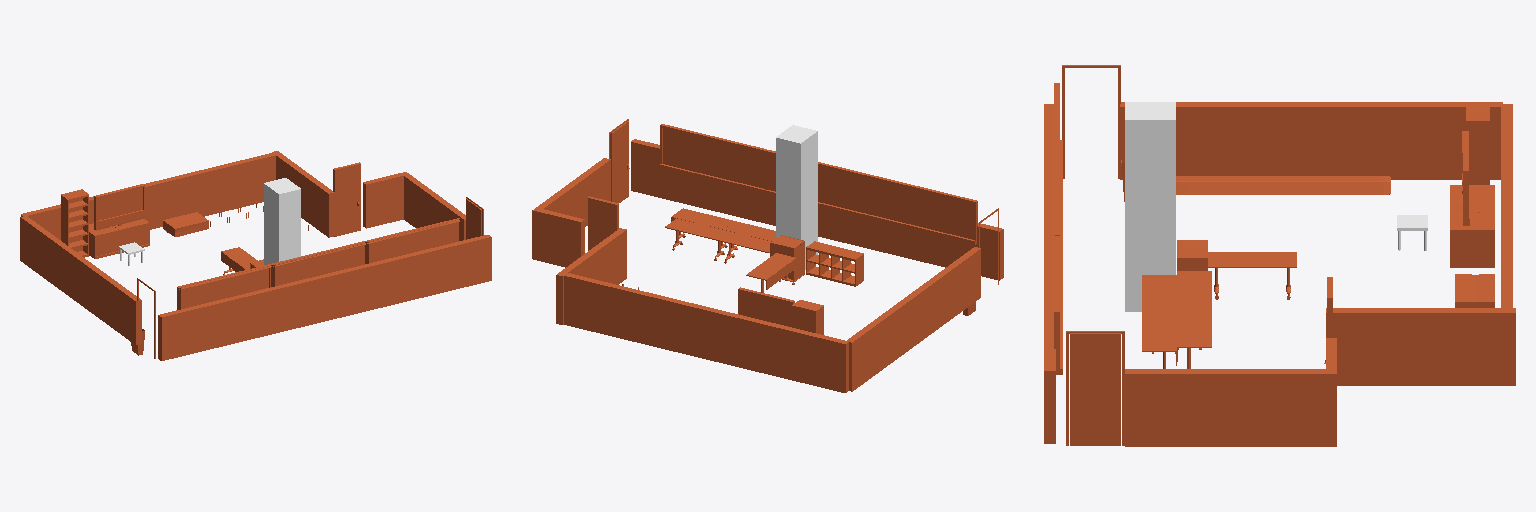
--- Facts derived from the render (not from the file) ---
Views: 3 orthographic renders of the robot side by side, from view 1: azimuth 30°, elevation 25°; view 2: azimuth 150°, elevation 25°; view 3: azimuth 270°, elevation 25°.
Model root with 89 links and 88 joints (88 fixed), rooted at root, posed all joints at 0.
Visible links, largest first — view 1: Wall_0_link, Wall_2_link, Wall_1_link, Column_0_link, Wall_3_link, Window_1_border_link, Wall_4_link, Wall_5_link, Window_2_panel_link, TV_0_link, Door_2_panel_link, Window_0_panel_link (+4 smaller); view 2: Wall_2_link, Wall_0_link, Wall_1_link, Column_0_link, Window_0_panel_link, Window_2_panel_link, Wall_4_link, Wall_3_link, Wall_5_link, Window_1_panel_link, Shelf_0_link, TV_0_link (+12 smaller); view 3: Wall_1_link, Wall_4_link, Wall_3_link, Column_0_link, Door_1_panel_link, FloorBar_1_link, Wall_0_link, Shelf_2_link, Wall_2_link, Shelf_1_main_link, Desk_0_top_link, Desk_3_top_link (+12 smaller).
Boxes of the visible links, bbox=[...] form: Wall_0_link: bbox=[158, 235, 491, 360]; Wall_2_link: bbox=[21, 153, 275, 239]; Wall_1_link: bbox=[20, 216, 141, 344]; Column_0_link: bbox=[264, 178, 300, 264]; Wall_3_link: bbox=[272, 151, 334, 237]; Window_1_border_link: bbox=[271, 241, 366, 286]; Wall_4_link: bbox=[401, 172, 465, 240]; Wall_5_link: bbox=[363, 173, 403, 228]; Window_2_panel_link: bbox=[367, 220, 457, 263]; TV_0_link: bbox=[94, 184, 144, 230]; Door_2_panel_link: bbox=[333, 162, 360, 236]; Window_0_panel_link: bbox=[181, 266, 269, 308]; Wall_2_link: bbox=[564, 273, 848, 392]; Wall_0_link: bbox=[631, 139, 1003, 280]; Wall_1_link: bbox=[847, 247, 980, 391]; Column_0_link: bbox=[776, 125, 817, 269]; Window_0_panel_link: bbox=[873, 179, 973, 239]; Window_2_panel_link: bbox=[663, 128, 762, 187]; Wall_4_link: bbox=[532, 158, 610, 260]; Wall_3_link: bbox=[556, 228, 626, 324]; Wall_5_link: bbox=[538, 209, 584, 267]; Window_1_panel_link: bbox=[768, 154, 868, 213]; Shelf_0_link: bbox=[806, 241, 863, 286]; TV_0_link: bbox=[738, 287, 794, 326]; Wall_1_link: bbox=[1120, 102, 1502, 179]; Wall_4_link: bbox=[1125, 369, 1336, 446]; Wall_3_link: bbox=[1326, 308, 1515, 385]; Column_0_link: bbox=[1125, 102, 1175, 311]; Door_1_panel_link: bbox=[1070, 333, 1120, 445]; FloorBar_1_link: bbox=[1176, 176, 1390, 194]; Wall_0_link: bbox=[1044, 104, 1055, 443]; Shelf_2_link: bbox=[1450, 185, 1494, 267]; Wall_2_link: bbox=[1501, 104, 1512, 307]; Shelf_1_main_link: bbox=[1466, 104, 1489, 184]; Desk_0_top_link: bbox=[1208, 252, 1296, 267]; Desk_3_top_link: bbox=[1142, 313, 1176, 351].
Size in the robot's own frame: 11.2 by 8.2 by 4.04 metres.
51 mesh visuals loaded from 50 distinct referenced files (45 Collada DAE); not drawn: 6 (reference not matched to a file when rendering).

The robot description file, URDF, robot "root":
<?xml version="1.0" ?>
<robot name="root" version="1.0">
  <material name="blue">
    <color rgba="0.4 0.4 0.6 1.0"/>
  </material>
  <material name="white">
    <color rgba="1.0 1.0 1.0 1.0"/>
  </material>
  <material name="cabinet_handles">
    <color rgba="0.6 0.6 0.6 1"/>
  </material>
  <material name="cabinet_surface">
    <color rgba="0.4 0.4 0.4 1"/>
  </material>
  <material name="oven_silver">
    <color rgba="0.64 0.66 0.7 1"/>
  </material>
  <material name="sink">
    <color rgba="0.8 0.8 0.8 1"/>
  </material>
  <material name="object_mains">
    <color rgba="0.7 0.7 0.7 1"/>
  </material>
  <material name="environment_color">
    <color rgba="0.85 0.43 0.25 1"/>
  </material>
  <material name="black">
    <color rgba="0.2 0.2 0.2 1"/>
  </material>



  <link name="root">
    <inertial>
      <origin xyz="0.0 0.0 0.0" rpy="0.0 0.0 0.0"/>
      <mass value="0.0"/>
      <inertia ixx="0.0" ixy="0.0" ixz="0.0" iyy="0.0" iyz="0.0" izz="0.0"/>
    </inertial>
  </link>
  <joint name="World_joint" type="fixed">
    <origin xyz="0.0 0.0 0.0" rpy="1.570796012878418 0.0 0.0"/>
    <parent link="root"/>
    <child link="World"/>
  </joint>
  <link name="World">
    <inertial>
      <origin xyz="0.0 0.0 0.0" rpy="0.0 0.0 0.0"/>
      <mass value="0.0"/>
      <inertia ixx="0.0" ixy="0.0" ixz="0.0" iyy="0.0" iyz="0.0" izz="0.0"/>
    </inertial>
  </link>
  <joint name="Environment_joint" type="fixed">
    <origin xyz="0.0 0.0 0.0" rpy="0.0 0.0 0.0"/>
    <parent link="root"/>
    <child link="Environment"/>
  </joint>
  <link name="Environment">
    <inertial>
      <origin xyz="0.0 0.0 0.0" rpy="0.0 0.0 0.0"/>
      <mass value="0.0"/>
      <inertia ixx="0.0" ixy="0.0" ixz="0.0" iyy="0.0" iyz="0.0" izz="0.0"/>
    </inertial>
  </link>

  <!-- DOORS -->
  <joint name="Door_0_joint" type="fixed">
    <origin xyz="-0.034354 -0.036232 1.04066" rpy="-8.526514862000276e-14 0.0 -2.2204464727667867e-15"/>
    <parent link="Environment"/>
    <child link="Door_0_link"/>
  </joint>
  <link name="Door_0_link">
    <inertial>
      <origin xyz="0.0 0.0 0.0" rpy="0.0 0.0 0.0"/>
      <mass value="0.0"/>
      <inertia ixx="0.0" ixy="0.0" ixz="0.0" iyy="0.0" iyz="0.0" izz="0.0"/>
    </inertial>
    <visual name="Door_0">
      <origin xyz="0.0 0.0 0.0" rpy="0.0 0.0 0.0"/>
      <geometry>
      	<mesh filename="package://robocane_manual/robocane_env/robocane_new/meshes/obj/Cube_026.dae" scale="1.0 1.0 1.0"/>
      </geometry>
      <material name="environment_color"/>
    </visual>
    <collision>
      <origin rpy="0 0 0" xyz="0 0 0"/>
      <geometry>
        <mesh filename="package://robocane_manual/robocane_env/robocane_new/meshes/obj/Cube_026.dae"/>
      </geometry>
    </collision>
  </link>
  
  <joint name="Door_1_main_joint" type="fixed">
    <origin xyz="10.95 0.03623 1.039" rpy="0.0 0.0 0.0"/>
    <parent link="Environment"/>
    <child link="Door_1_main_link"/>
  </joint>
  <link name="Door_1_main_link">
    <inertial>
      <origin xyz="0.0 0.0 0.0" rpy="0.0 0.0 0.0"/>
      <mass value="0.0"/>
      <inertia ixx="0.0" ixy="0.0" ixz="0.0" iyy="0.0" iyz="0.0" izz="0.0"/>
    </inertial>
  </link>
  <joint name="Door_1_panel_joint" type="fixed">
    <origin xyz="0.0 0.0 0.0" rpy="-8.526514862000276e-14 0.0 -2.2204464727667867e-15"/>
    <parent link="Door_1_main_link"/>
    <child link="Door_1_panel_link"/>
  </joint>
  <link name="Door_1_panel_link">
    <inertial>
      <origin xyz="0.0 0.0 0.0" rpy="0.0 0.0 0.0"/>
      <mass value="0.0"/>
      <inertia ixx="0.0" ixy="0.0" ixz="0.0" iyy="0.0" iyz="0.0" izz="0.0"/>
    </inertial>
    <visual name="Door_1_panel">
      <origin xyz="0.0 0.0 0.0" rpy="0.0 0.0 0.0"/>
      <geometry>
      	<mesh filename="package://robocane_manual/robocane_env/robocane_new/meshes/obj/Office_031.dae" scale="1.0 1.0 1.0"/>
      </geometry>
      <material name="environment_color"/>
    </visual>
    <collision>
      <origin rpy="0 0 0" xyz="0 0 0"/>
      <geometry>
        <mesh filename="package://robocane_manual/robocane_env/robocane_new/meshes/obj/Office_031.dae" scale="1.0 1.0 1.0"/>
      </geometry>
    </collision>
  </link>
  <joint name="Door_1_border_joint" type="fixed">
    <origin xyz="0.0 0.0 0.0" rpy="-8.526514862000276e-14 0.0 -2.2204464727667867e-15"/>
    <parent link="Door_1_main_link"/>
    <child link="Door_1_border_link"/>
  </joint>
  <link name="Door_1_border_link">
    <inertial>
      <origin xyz="0.0 0.0 0.0" rpy="0.0 0.0 0.0"/>
      <mass value="0.0"/>
      <inertia ixx="0.0" ixy="0.0" ixz="0.0" iyy="0.0" iyz="0.0" izz="0.0"/>
    </inertial>
    <visual name="Door_1_border">
      <origin xyz="0.0 0.0 0.0" rpy="0.0 0.0 0.0"/>
      <geometry>
      	<mesh filename="package://robocane_manual/robocane_env/robocane_new/meshes/obj/Cube_012.dae" scale="1.0 1.0 1.0"/>
      </geometry>
      <material name="environment_color"/>
    </visual>
    <collision>
      <origin rpy="0 0 0" xyz="0 0 0"/>
      <geometry>
        <mesh filename="package://robocane_manual/robocane_env/robocane_new/meshes/obj/Cube_012.dae" scale="1.0 1.0 1.0"/>
      </geometry>
    </collision>
  </link>  
  <joint name="Door_1_handle_frame_joint" type="fixed">
    <origin xyz="-0.065775 -0.35004 -0.20166" rpy="-8.526514862000276e-14 0.0 -2.2204464727667867e-15"/>
    <parent link="Door_1_main_link"/>
    <child link="Door_1_handle_frame_link"/>
  </joint>
  <link name="Door_1_handle_frame_link">
    <inertial>
      <origin xyz="0.0 0.0 0.0" rpy="0.0 0.0 0.0"/>
      <mass value="0.0"/>
      <inertia ixx="0.0" ixy="0.0" ixz="0.0" iyy="0.0" iyz="0.0" izz="0.0"/>
    </inertial>
    <visual name="Door_1_handle_frame">
      <origin xyz="0.0 0.0 0.0" rpy="0.0 0.0 0.0"/>
      <geometry>
      	<mesh filename="package://robocane_manual/robocane_env/robocane_new/meshes/obj/Office_003.dae" scale="1.0 1.0 1.0"/>
      </geometry>
      <material name="environment_color"/>
    </visual>
    <collision>
      <origin rpy="0 0 0" xyz="0 0 0"/>
      <geometry>
        <mesh filename="package://robocane_manual/robocane_env/robocane_new/meshes/obj/Office_003.dae" scale="1.0 1.0 1.0"/>
      </geometry>
    </collision>
  </link>
  <joint name="Door_1_handle_knob_joint" type="fixed">
    <origin xyz="-0.023419 0.0356732 -0.036879" rpy="-8.526514862000276e-14 0.0 -2.2204464727667867e-15"/>
    <parent link="Door_1_handle_frame_link"/>
    <child link="Door_1_handle_knob_link"/>
  </joint>
  <link name="Door_1_handle_knob_link">
    <inertial>
      <origin xyz="0.0 0.0 0.0" rpy="0.0 0.0 0.0"/>
      <mass value="0.0"/>
      <inertia ixx="0.0" ixy="0.0" ixz="0.0" iyy="0.0" iyz="0.0" izz="0.0"/>
    </inertial>
    <visual name="Door_1_handle_knob">
      <origin xyz="0.0 0.0 0.0" rpy="0.0 0.0 0.0"/>
      <geometry>
      	<mesh filename="package://robocane_manual/robocane_env/robocane_new/meshes/obj/Office_051.dae" scale="1.0 1.0 1.0"/>
      </geometry>
      <material name="environment_color"/>
    </visual>
    <collision>
      <origin rpy="0 0 0" xyz="0 0 0"/>
      <geometry>
        <mesh filename="package://robocane_manual/robocane_env/robocane_new/meshes/obj/Office_051.dae" scale="1.0 1.0 1.0"/>
      </geometry>
    </collision>
  </link>
  
  
  <joint name="Door_2_main_joint" type="fixed">
    <origin xyz="9.0617 4.1219 1.0343" rpy="0.0 0.0 0.0"/>
    <parent link="Environment"/>
    <child link="Door_2_main_link"/>
  </joint>
  <link name="Door_2_main_link">
    <inertial>
      <origin xyz="0.0 0.0 0.0" rpy="0.0 0.0 0.0"/>
      <mass value="0.0"/>
      <inertia ixx="0.0" ixy="0.0" ixz="0.0" iyy="0.0" iyz="0.0" izz="0.0"/>
    </inertial>
  </link>
  <joint name="Door_2_panel_joint" type="fixed">
    <origin xyz="0.0 0.0 0.0" rpy="-8.526514862000276e-14 0.0 -2.2204464727667867e-15"/>
    <parent link="Door_2_main_link"/>
    <child link="Door_2_panel_link"/>
  </joint>
  <link name="Door_2_panel_link">
    <inertial>
      <origin xyz="0.0 0.0 0.0" rpy="0.0 0.0 0.0"/>
      <mass value="0.0"/>
      <inertia ixx="0.0" ixy="0.0" ixz="0.0" iyy="0.0" iyz="0.0" izz="0.0"/>
    </inertial>
    <visual name="Door_2_panel">
      <origin xyz="0.0 0.0 0.0" rpy="0.0 0.0 0.0"/>
      <geometry>
      	<mesh filename="package://robocane_manual/robocane_env/robocane_new/meshes/obj/Office_019.dae" scale="1.0 1.0 1.0"/>
      </geometry>
      <material name="environment_color"/>
    </visual>
    <collision>
      <origin rpy="0 0 0" xyz="0 0 0"/>
      <geometry>
        <mesh filename="package://robocane_manual/robocane_env/robocane_new/meshes/obj/Office_019.dae" scale="1.0 1.0 1.0"/>
      </geometry>
    </collision>
  </link>
  <joint name="Door_2_handle_frame_joint" type="fixed">
    <origin xyz="0.33748 -0.065732 -0.19716" rpy="-8.526514862000276e-14 0.0 -2.2204464727667867e-15"/>
    <parent link="Door_2_main_link"/>
    <child link="Door_2_handle_frame_link"/>
  </joint>
  <link name="Door_2_handle_frame_link">
    <inertial>
      <origin xyz="0.0 0.0 0.0" rpy="0.0 0.0 0.0"/>
      <mass value="0.0"/>
      <inertia ixx="0.0" ixy="0.0" ixz="0.0" iyy="0.0" iyz="0.0" izz="0.0"/>
    </inertial>
    <visual name="Door_2_handle_frame">
      <origin xyz="0.0 0.0 0.0" rpy="0.0 0.0 0.0"/>
      <geometry>
      	<mesh filename="package://robocane_manual/robocane_env/robocane_new/meshes/obj/Office_044.dae" scale="1.0 1.0 1.0"/>
      </geometry>
      <material name="environment_color"/>
    </visual>
    <collision>
      <origin rpy="0 0 0" xyz="0 0 0"/>
      <geometry>
        <mesh filename="package://robocane_manual/robocane_env/robocane_new/meshes/obj/Office_044.dae" scale="1.0 1.0 1.0"/>
      </geometry>
    </collision>
  </link>
  <joint name="Door_2_handle_knob_joint" type="fixed">
    <origin xyz="-0.036732 -0.023646 -0.036882" rpy="-8.526514862000276e-14 0.0 -2.2204464727667867e-15"/>
    <parent link="Door_2_handle_frame_link"/>
    <child link="Door_2_handle_knob_link"/>
  </joint>
  <link name="Door_2_handle_knob_link">
    <inertial>
      <origin xyz="0.0 0.0 0.0" rpy="0.0 0.0 0.0"/>
      <mass value="0.0"/>
      <inertia ixx="0.0" ixy="0.0" ixz="0.0" iyy="0.0" iyz="0.0" izz="0.0"/>
    </inertial>
    <visual name="Door_2_handle_knob">
      <origin xyz="0.0 0.0 0.0" rpy="0.0 0.0 0.0"/>
      <geometry>
      	<mesh filename="package://robocane_manual/robocane_env/robocane_new/meshes/obj/Office_048.dae" scale="1.0 1.0 1.0"/>
      </geometry>
      <material name="environment_color"/>
    </visual>
    <collision>
      <origin rpy="0 0 0" xyz="0 0 0"/>
      <geometry>
        <mesh filename="package://robocane_manual/robocane_env/robocane_new/meshes/obj/Office_048.dae" scale="1.0 1.0 1.0"/>
      </geometry>
    </collision>
  </link>




  <!-- Building -->
    <joint name="Column_0_joint" type="fixed">
    <origin xyz="5.09736 0.99928 1.8085" rpy="-8.526514862000276e-14 0.0 -2.2204464727667867e-15"/>
    <parent link="Environment"/>
    <child link="Column_0_link"/>
  </joint>
  <link name="Column_0_link">
    <inertial>
      <origin xyz="0.0 0.0 0.0" rpy="0.0 0.0 0.0"/>
      <mass value="0.0"/>
      <inertia ixx="0.0" ixy="0.0" ixz="0.0" iyy="0.0" iyz="0.0" izz="0.0"/>
    </inertial>
    <visual name="Column_0">
      <origin xyz="0.0 0.0 0.0" rpy="0.0 0.0 0.0"/>
      <geometry>
      	<mesh filename="package://robocane_manual/robocane_env/robocane_new/meshes/obj/Cube_014.dae" scale="1.0 1.0 1.0"/>
      </geometry>
      <material name="white"/>
    </visual>
    <collision>
      <origin rpy="0 0 0" xyz="0 0 0"/>
      <geometry>
        <mesh filename="package://robocane_manual/robocane_env/robocane_new/meshes/obj/Cube_014.dae" scale="1.0 1.0 1.0"/>
      </geometry>
    </collision>
  </link>
  
  <!-- Furniture -->
    <joint name="Trash_1_joint" type="fixed">
    <origin xyz="0.107491 0.72737 0" rpy="-8.526514862000276e-14 0.0 -2.2204464727667867e-15"/>
    <parent link="Environment"/>
    <child link="Trash_1_link"/>
  </joint>
  <link name="Trash_1_link">
    <inertial>
      <origin xyz="0.0 0.0 0.0" rpy="0.0 0.0 0.0"/>
      <mass value="0.0"/>
      <inertia ixx="0.0" ixy="0.0" ixz="0.0" iyy="0.0" iyz="0.0" izz="0.0"/>
    </inertial>
    <visual name="Trash_1">
      <origin xyz="0.0 0.0 0.0" rpy="0.0 0.0 0.0"/>
      <geometry>
      	<mesh filename="package://robocane_manual/robocane_env/robocane_new/meshes/obj/Cube_027.dae" scale="1.0 1.0 1.0"/>
      </geometry>
      <material name="environment_color"/>
    </visual>
    <collision>
      <origin rpy="0 0 0" xyz="0 0 0"/>
      <geometry>
        <mesh filename="package://robocane_manual/robocane_env/robocane_new/meshes/obj/Cube_027.dae" scale="1.0 1.0 1.0"/>
      </geometry>
    </collision>
  </link>
  
  
  <joint name="TV_0_joint" type="fixed">
    <origin xyz="2.8288 6.4871 1.2664" rpy="-8.526514862000276e-14 0.0 -2.2204464727667867e-15"/>
    <parent link="Environment"/>
    <child link="TV_0_link"/>
  </joint>
  <link name="TV_0_link">
    <inertial>
      <origin xyz="0.0 0.0 0.0" rpy="0.0 0.0 0.0"/>
      <mass value="0.0"/>
      <inertia ixx="0.0" ixy="0.0" ixz="0.0" iyy="0.0" iyz="0.0" izz="0.0"/>
    </inertial>
    <visual name="TV_0">
      <origin xyz="0.0 0.0 0.0" rpy="0.0 0.0 0.0"/>
      <geometry>
      	<mesh filename="package://robocane_manual/robocane_env/robocane_new/meshes/obj/Office_004.dae" scale="1.0 1.0 1.0"/>
      </geometry>
      <material name="environment_color"/>
    </visual>
    <collision>
      <origin rpy="0 0 0" xyz="0 0 0"/>
      <geometry>
        <mesh filename="package://robocane_manual/robocane_env/robocane_new/meshes/obj/Office_004.dae" scale="1.0 1.0 1.0"/>
      </geometry>
    </collision>
  </link>
  
  
    <joint name="FloorBar_1_joint" type="fixed">
    <origin xyz="0.491986 3.28716 0.06721" rpy="-8.526514862000276e-14 0.0 -2.2204464727667867e-15"/>
    <parent link="Environment"/>
    <child link="FloorBar_1_link"/>
  </joint>
  <link name="FloorBar_1_link">
    <inertial>
      <origin xyz="0.0 0.0 0.0" rpy="0.0 0.0 0.0"/>
      <mass value="0.0"/>
      <inertia ixx="0.0" ixy="0.0" ixz="0.0" iyy="0.0" iyz="0.0" izz="0.0"/>
    </inertial>
    <visual name="FloorBar_1">
      <origin xyz="0.0 0.0 0.0" rpy="0.0 0.0 0.0"/>
      <geometry>
      	<mesh filename="package://robocane_manual/robocane_env/robocane_new/meshes/obj/Cube_119.dae" scale="1.0 1.0 1.0"/>
      </geometry>
      <material name="environment_color"/>
    </visual>
    <collision>
      <origin rpy="0 0 0" xyz="0 0 0"/>
      <geometry>
        <mesh filename="package://robocane_manual/robocane_env/robocane_new/meshes/obj/Cube_119.dae" scale="1.0 1.0 1.0"/>
      </geometry>
    </collision>
  </link>
  
  <joint name="Shelf_0_joint" type="fixed">
    <origin xyz="3.8332 1.1975 0.33" rpy="3.14 0.0 3.14"/>
    <parent link="Environment"/>
    <child link="Shelf_0_link"/>
  </joint>
  <link name="Shelf_0_link">
    <inertial>
      <origin xyz="0.0 0.0 0.0" rpy="0.0 0.0 0.0"/>
      <mass value="0.0"/>
      <inertia ixx="0.0" ixy="0.0" ixz="0.0" iyy="0.0" iyz="0.0" izz="0.0"/>
    </inertial>
    <visual name="Shelf_0">
      <origin xyz="0.0 0.0 0.0" rpy="0.0 0.0 0.0"/>
      <geometry>
      	<mesh filename="package://robocane_manual/robocane_env/robocane_new/meshes/obj/Cube_001.dae" scale="1.0 1.0 1.0"/>
      </geometry>
      <material name="environment_color"/>
    </visual>
    <collision>
      <origin rpy="0 0 0" xyz="0 0 0"/>
      <geometry>
        <mesh filename="package://robocane_manual/robocane_env/robocane_new/meshes/obj/Cube_001.dae" scale="1.0 1.0 1.0"/>
      </geometry>
    </collision>
  </link>
  
  <joint name="Shelf_1_main_joint" type="fixed">
    <origin xyz="1.4694 6.6989 0.93986" rpy="-8.526514862000276e-14 0.0 -2.2204464727667867e-15"/>
    <parent link="Environment"/>
    <child link="Shelf_1_main_link"/>
  </joint>
  <link name="Shelf_1_main_link">
    <inertial>
      <origin xyz="0.0 0.0 0.0" rpy="0.0 0.0 0.0"/>
      <mass value="0.0"/>
      <inertia ixx="0.0" ixy="0.0" ixz="0.0" iyy="0.0" iyz="0.0" izz="0.0"/>
    </inertial>
    <visual name="Shelf_1">
      <origin xyz="0.0 0.0 0.0" rpy="0.0 0.0 0.0"/>
      <geometry>
      	<mesh filename="package://robocane_manual/robocane_env/robocane_new/meshes/obj/Office_005.dae" scale="1.0 1.0 1.0"/>
      </geometry>
      <material name="environment_color"/>
    </visual>
    <collision>
      <origin rpy="0 0 0" xyz="0 0 0"/>
      <geometry>
        <mesh filename="package://robocane_manual/robocane_env/robocane_new/meshes/obj/Office_005.dae" scale="1.0 1.0 1.0"/>
      </geometry>
    </collision>
  </link>
  <joint name="Shelf_1_floor_1_joint" type="fixed">
    <origin xyz="0.0 0.0 -0.89" rpy="0.0 0.0 0.0"/>
    <parent link="Shelf_1_main_link"/>
    <child link="Shelf_1_floor_1_link"/>
  </joint>
  <link name="Shelf_1_floor_1_link">
    <inertial>
      <origin xyz="0.0 0.0 0.0" rpy="0.0 0.0 0.0"/>
      <mass value="0.0"/>
      <inertia ixx="0.0" ixy="0.0" ixz="0.0" iyy="0.0" iyz="0.0" izz="0.0"/>
    </inertial>
  </link>
  <joint name="Shelf_1_floor_2_joint" type="fixed">
    <origin xyz="0.0 0.0 -0.565" rpy="0.0 0.0 0.0"/>
    <parent link="Shelf_1_main_link"/>
    <child link="Shelf_1_floor_2_link"/>
  </joint>
  <link name="Shelf_1_floor_2_link">
    <inertial>
      <origin xyz="0.0 0.0 0.0" rpy="0.0 0.0 0.0"/>
      <mass value="0.0"/>
      <inertia ixx="0.0" ixy="0.0" ixz="0.0" iyy="0.0" iyz="0.0" izz="0.0"/>
    </inertial>
  </link>
  <joint name="Shelf_1_floor_3_joint" type="fixed">
    <origin xyz="0.0 0.0 -0.24" rpy="0.0 0.0 0.0"/>
    <parent link="Shelf_1_main_link"/>
    <child link="Shelf_1_floor_3_link"/>
  </joint>
  <link name="Shelf_1_floor_3_link">
    <inertial>
      <origin xyz="0.0 0.0 0.0" rpy="0.0 0.0 0.0"/>
      <mass value="0.0"/>
      <inertia ixx="0.0" ixy="0.0" ixz="0.0" iyy="0.0" iyz="0.0" izz="0.0"/>
    </inertial>
  </link>
  <joint name="Shelf_1_floor_4_joint" type="fixed">
    <origin xyz="0.0 0.0 0.085" rpy="0.0 0.0 0.0"/>
    <parent link="Shelf_1_main_link"/>
    <child link="Shelf_1_floor_4_link"/>
  </joint>
  <link name="Shelf_1_floor_4_link">
    <inertial>
      <origin xyz="0.0 0.0 0.0" rpy="0.0 0.0 0.0"/>
      <mass value="0.0"/>
      <inertia ixx="0.0" ixy="0.0" ixz="0.0" iyy="0.0" iyz="0.0" izz="0.0"/>
    </inertial>
  </link>
  <joint name="Shelf_1_floor_5_joint" type="fixed">
    <origin xyz="0.0 0.0 0.41" rpy="0.0 0.0 0.0"/>
    <parent link="Shelf_1_main_link"/>
    <child link="Shelf_1_floor_5_link"/>
  </joint>
  <link name="Shelf_1_floor_5_link">
    <inertial>
      <origin xyz="0.0 0.0 0.0" rpy="0.0 0.0 0.0"/>
      <mass value="0.0"/>
      <inertia ixx="0.0" ixy="0.0" ixz="0.0" iyy="0.0" iyz="0.0" izz="0.0"/>
    </inertial>
  </link>
  <joint name="Shelf_1_floor_6_joint" type="fixed">
    <origin xyz="0.0 0.0 0.70" rpy="0.0 0.0 0.0"/>
    <parent link="Shelf_1_main_link"/>
    <child link="Shelf_1_floor_6_link"/>
  </joint>
  <link name="Shelf_1_floor_6_link">
    <inertial>
      <origin xyz="0.0 0.0 0.0" rpy="0.0 0.0 0.0"/>
      <mass value="0.0"/>
      <inertia ixx="0.0" ixy="0.0" ixz="0.0" iyy="0.0" iyz="0.0" izz="0.0"/>
    </inertial>
  </link>

  <joint name="Shelf_2_joint" type="fixed">
    <origin xyz="2.7661 6.60044 0.33563" rpy="-8.526514862000276e-14 0.0 -2.2204464727667867e-15"/>
    <parent link="Environment"/>
    <child link="Shelf_2_link"/>
  </joint>
  <link name="Shelf_2_link">
    <inertial>
      <origin xyz="0.0 0.0 0.0" rpy="0.0 0.0 0.0"/>
      <mass value="0.0"/>
      <inertia ixx="0.0" ixy="0.0" ixz="0.0" iyy="0.0" iyz="0.0" izz="0.0"/>
    </inertial>
    <visual name="Shelf_2">
      <origin xyz="0.0 0.0 0.0" rpy="0.0 0.0 0.0"/>
      <geometry>
      	<mesh filename="package://robocane_manual/robocane_env/robocane_new/meshes/obj/Office_022.dae" scale="1.0 1.0 1.0"/>
      </geometry>
      <material name="environment_color"/>
    </visual>
    <collision>
      <origin rpy="0 0 0" xyz="0 0 0"/>
      <geometry>
        <mesh filename="package://robocane_manual/robocane_env/robocane_new/meshes/obj/Office_022.dae" scale="1.0 1.0 1.0"/>
      </geometry>
    </collision>
  </link>


  <joint name="Shelf_3_joint" type="fixed">
    <origin xyz="5.1426 6.6482 0.11411" rpy="-1.57 0.0 1.57"/>
    <parent link="Environment"/>
    <child link="Shelf_3_link"/>
  </joint>
  <link name="Shelf_3_link">
    <inertial>
      <origin xyz="0.0 0.0 0.0" rpy="0.0 0.0 0.0"/>
      <mass value="0.0"/>
      <inertia ixx="0.0" ixy="0.0" ixz="0.0" iyy="0.0" iyz="0.0" izz="0.0"/>
    </inertial>
    <visual name="Shelf_3">
      <origin xyz="0.0 0.0 0.0" rpy="0.0 0.0 0.0"/>
      <geometry>
      	<mesh filename="package://robocane_manual/robocane_env/robocane_new/meshes/obj/defaultMaterial.dae" scale="1.0 1.0 1.0"/>
      </geometry>
      <material name="environment_color"/>
    </visual>
    <collision>
      <origin rpy="0 0 0" xyz="0 0 0"/>
      <geometry>
        <mesh filename="package://robocane_manual/robocane_env/robocane_new/meshes/obj/defaultMaterial.dae" scale="1.0 1.0 1.0"/>
      </geometry>
    </collision>
  </link>


  <joint name="Cupboard_0_main_joint" type="fixed">
    <origin xyz="4.9489 1.729 0.44" rpy="-8.526514862000276e-14 0.0 -2.2204464727667867e-15"/>
    <parent link="Environment"/>
    <child link="Cupboard_0_main_link"/>
  </joint>
  <link name="Cupboard_0_main_link">
    <inertial>
      <origin xyz="0.0 0.0 0.0" rpy="0.0 0.0 0.0"/>
      <mass value="0.0"/>
      <inertia ixx="0.0" ixy="0.0" ixz="0.0" iyy="0.0" iyz="0.0" izz="0.0"/>
    </inertial>
  </link>
  <joint name="Cupboard_0_faces_joint" type="fixed">
    <origin xyz="0 0 0" rpy="-8.526514862000276e-14 0.0 -2.2204464727667867e-15"/>
    <parent link="Cupboard_0_main_link"/>
    <child link="Cupboard_0_faces_link"/>
  </joint>
  <link name="Cupboard_0_faces_link">
    <inertial>
      <origin xyz="0.0 0.0 0.0" rpy="0.0 0.0 0.0"/>
      <mass value="0.0"/>
      <inertia ixx="0.0" ixy="0.0" ixz="0.0" iyy="0.0" iyz="0.0" izz="0.0"/>
    </inertial>
    <visual name="Cupboard_0_faces">
      <origin xyz="0.0 0.0 0.0" rpy="0.0 0.0 0.0"/>
      <geometry>
      	<mesh filename="package://robocane_manual/robocane_env/robocane_new/meshes/obj/Cube_130.dae" scale="1.0 1.0 1.0"/>
      </geometry>
      <material name="environment_color"/>
    </visual>
    <collision>
      <origin rpy="0 0 0" xyz="0 0 0"/>
      <geometry>
        <mesh filename="package://robocane_manual/robocane_env/robocane_new/meshes/obj/Cube_130.dae" scale="1.0 1.0 1.0"/>
      </geometry>
    </collision>
  </link>
  <joint name="Cupboard_0_edges_joint" type="fixed">
    <origin xyz="0 0 0" rpy="-8.526514862000276e-14 0.0 -2.2204464727667867e-15"/>
    <parent link="Cupboard_0_main_link"/>
    <child link="Cupboard_0_edges_link"/>
  </joint>
  <link name="Cupboard_0_edges_link">
    <inertial>
      <origin xyz="0.0 0.0 0.0" rpy="0.0 0.0 0.0"/>
      <mass value="0.0"/>
      <inertia ixx="0.0" ixy="0.0" ixz="0.0" iyy="0.0" iyz="0.0" izz="0.0"/>
    </inertial>
    <visual name="Cupboard_0_edges">
      <origin xyz="0.0 0.0 0.0" rpy="0.0 0.0 0.0"/>
      <geometry>
      	<mesh filename="package://robocane_manual/robocane_env/robocane_new/meshes/obj/Cube_129.dae" scale="1.0 1.0 1.0"/>
      </geometry>
      <material name="environment_color"/>
    </visual>
    <collision>
      <origin rpy="0 0 0" xyz="0 0 0"/>
      <geometry>
        <mesh filename="package://robocane_manual/robocane_env/robocane_new/meshes/obj/Cube_129.dae" scale="1.0 1.0 1.0"/>
      </geometry>
    </collision>
  </link>
  
  <joint name="Table_0_joint" type="fixed">
    <!--origin xyz="6.5785 5.5572 0.18149" rpy="-8.526514862000276e-14 0.0 -2.2204464727667867e-15"/-->
    <origin xyz="2.7 5.5572 0.18149" rpy="-8.526514862000276e-14 0.0 -2.2204464727667867e-15"/>
    <parent link="Environment"/>
    <child link="Table_0_link"/>
  </joint>
  <link name="Table_0_link">
    <inertial>
      <origin xyz="0.0 0.0 0.0" rpy="0.0 0.0 0.0"/>
      <mass value="0.0"/>
      <inertia ixx="0.0" ixy="0.0" ixz="0.0" iyy="0.0" iyz="0.0" izz="0.0"/>
    </inertial>
    <visual name="Table_0">
      <origin xyz="0.0 0.0 0.0" rpy="0.0 0.0 0.0"/>
      <geometry>
      	<mesh filename="package://robocane_manual/robocane_env/robocane_new/meshes/obj/Cube_004.dae" scale="1.0 1.0 1.0"/>
      </geometry>
      <material name="white"/>
    </visual>
    <collision>
      <origin rpy="0 0 0" xyz="0 0 0"/>
      <geometry>
        <mesh filename="package://robocane_manual/robocane_env/robocane_new/meshes/obj/Cube_004.dae" scale="1.0 1.0 1.0"/>
      </geometry>
    </collision>
  </link>
  
  
  <joint name="Chair_0_main_joint" type="fixed">
    <origin xyz="7.9516 5.0083 0.39878" rpy="-8.526514862000276e-14 0.0 -2.2204464727667867e-15"/>
    <parent link="Environment"/>
    <child link="Chair_0_main_link"/>
  </joint>
  <link name="Chair_0_main_link">
    <inertial>
      <origin xyz="0.0 0.0 0.0" rpy="0.0 0.0 0.0"/>
      <mass value="0.0"/>
      <inertia ixx="0.0" ixy="0.0" ixz="0.0" iyy="0.0" iyz="0.0" izz="0.0"/>
    </inertial>
  </link>
  <joint name="Chair_0_seat_joint" type="fixed">
    <origin xyz="0.0 0.0 0.0" rpy="0 0.0 0.0"/>
    <parent link="Chair_0_main_link"/>
    <child link="Chair_0_seat_link"/>
  </joint>
  <link name="Chair_0_seat_link">
    <inertial>
      <origin xyz="0.0 0.0 0.0" rpy="0.0 0.0 0.0"/>
      <mass value="0.0"/>
      <inertia ixx="0.0" ixy="0.0" ixz="0.0" iyy="0.0" iyz="0.0" izz="0.0"/>
    </inertial>
    <visual name="Chair_0">
      <origin xyz="0.0 0.0 0.0" rpy="0.0 0.0 0.0"/>
      <geometry>
      	<mesh filename="package://robocane_manual/robocane_env/robocane_new/meshes/obj/Cube_097.dae" scale="1.0 1.0 1.0"/>
      </geometry>
      <material name="environment_color"/>
    </visual>
    <collision>
      <origin rpy="0 0 0" xyz="0 0 0"/>
      <geometry>
        <mesh filename="package://robocane_manual/robocane_env/robocane_new/meshes/obj/Cube_097.dae" scale="1.0 1.0 1.0"/>
      </geometry>
    </collision>
  </link>
  <joint name="Chair_0_legs_joint" type="fixed">
    <origin xyz="-0.06 0.0 -0.29463" rpy="0 0.0 0.0"/>
    <parent link="Chair_0_main_link"/>
    <child link="Chair_0_legs_link"/>
  </joint>
  <link name="Chair_0_legs_link">
    <inertial>
      <origin xyz="0.0 0.0 0.0" rpy="0.0 0.0 0.0"/>
      <mass value="0.0"/>
      <inertia ixx="0.0" ixy="0.0" ixz="0.0" iyy="0.0" iyz="0.0" izz="0.0"/>
    </inertial>
    <visual name="Chair_0">
      <origin xyz="0.0 0.0 0.0" rpy="0.0 0.0 0.0"/>
      <geometry>
      	<mesh filename="package://robocane_manual/robocane_env/robocane_new/meshes/obj/Cube_219.dae" scale="1.0 1.0 1.0"/>
      </geometry>
      <material name="environment_color"/>
    </visual>
    <collision>
      <origin rpy="0 0 0" xyz="0 0 0"/>
      <geometry>
        <mesh filename="package://robocane_manual/robocane_env/robocane_new/meshes/obj/Cube_219.dae" scale="1.0 1.0 1.0"/>
      </geometry>
    </collision>
  </link>

  
  <joint name="Chair_1_main_joint" type="fixed">
    <origin xyz="7.9516 5.6266 0.4003" rpy="-8.526514862000276e-14 0.0 -2.2204464727667867e-15"/>
    <parent link="Environment"/>
    <child link="Chair_1_main_link"/>
  </joint>
  <link name="Chair_1_main_link">
    <inertial>
      <origin xyz="0.0 0.0 0.0" rpy="0.0 0.0 0.0"/>
      <mass value="0.0"/>
      <inertia ixx="0.0" ixy="0.0" ixz="0.0" iyy="0.0" iyz="0.0" izz="0.0"/>
    </inertial>
  </link>
  <joint name="Chair_1_seat_joint" type="fixed">
    <origin xyz="0.0 0.0 0.0" rpy="0 0.0 0.0"/>
    <parent link="Chair_1_main_link"/>
    <child link="Chair_1_seat_link"/>
  </joint>
  <link name="Chair_1_seat_link">
    <inertial>
      <origin xyz="0.0 0.0 0.0" rpy="0.0 0.0 0.0"/>
      <mass value="0.0"/>
      <inertia ixx="0.0" ixy="0.0" ixz="0.0" iyy="0.0" iyz="0.0" izz="0.0"/>
    </inertial>
    <visual name="Chair_1">
      <origin xyz="0.0 0.0 0.0" rpy="0.0 0.0 0.0"/>
      <geometry>
      	<mesh filename="package://robocane_manual/robocane_env/robocane_new/meshes/obj/Cube_097.dae" scale="1.0 1.0 1.0"/>
      </geometry>
      <material name="environment_color"/>
    </visual>
    <collision>
      <origin rpy="0 0 0" xyz="0 0 0"/>
      <geometry>
        <mesh filename="package://robocane_manual/robocane_env/robocane_new/meshes/obj/Cube_097.dae" scale="1.0 1.0 1.0"/>
      </geometry>
    </collision>
  </link>
  <joint name="Chair_1_legs_joint" type="fixed">
    <origin xyz="-0.06 0.0 -0.29463" rpy="0 0.0 0.0"/>
    <parent link="Chair_1_main_link"/>
    <child link="Chair_1_legs_link"/>
  </joint>
  <link name="Chair_1_legs_link">
    <inertial>
      <origin xyz="0.0 0.0 0.0" rpy="0.0 0.0 0.0"/>
      <mass value="0.0"/>
      <inertia ixx="0.0" ixy="0.0" ixz="0.0" iyy="0.0" iyz="0.0" izz="0.0"/>
    </inertial>
    <visual name="Chair_1">
      <origin xyz="0.0 0.0 0.0" rpy="0.0 0.0 0.0"/>
      <geometry>
      	<mesh filename="package://robocane_manual/robocane_env/robocane_new/meshes/obj/Cube_219.dae" scale="1.0 1.0 1.0"/>
      </geometry>
      <material name="environment_color"/>
    </visual>
    <collision>
      <origin rpy="0 0 0" xyz="0 0 0"/>
      <geometry>
        <mesh filename="package://robocane_manual/robocane_env/robocane_new/meshes/obj/Cube_219.dae" scale="1.0 1.0 1.0"/>
      </geometry>
    </collision>
  </link>
  
  
  <joint name="Chair_2_main_joint" type="fixed">
    <origin xyz="7.9516 6.2475 0.39878" rpy="-8.526514862000276e-14 0.0 -2.2204464727667867e-15"/>
    <parent link="Environment"/>
    <child link="Chair_2_main_link"/>
  </joint>
  <link name="Chair_2_main_link">
    <inertial>
      <origin xyz="0.0 0.0 0.0" rpy="0.0 0.0 0.0"/>
      <mass value="0.0"/>
      <inertia ixx="0.0" ixy="0.0" ixz="0.0" iyy="0.0" iyz="0.0" izz="0.0"/>
    </inertial>
  </link>
  <joint name="Chair_2_seat_joint" type="fixed">
    <origin xyz="0.0 0.0 0.0" rpy="0 0.0 0.0"/>
    <parent link="Chair_2_main_link"/>
    <child link="Chair_2_seat_link"/>
  </joint>
  <link name="Chair_2_seat_link">
    <inertial>
      <origin xyz="0.0 0.0 0.0" rpy="0.0 0.0 0.0"/>
      <mass value="0.0"/>
      <inertia ixx="0.0" ixy="0.0" ixz="0.0" iyy="0.0" iyz="0.0" izz="0.0"/>
    </inertial>
    <visual name="Chair_2">
      <origin xyz="0.0 0.0 0.0" rpy="0.0 0.0 0.0"/>
      <geometry>
      	<mesh filename="package://robocane_manual/robocane_env/robocane_new/meshes/obj/Cube_221.dae" scale="1.0 1.0 1.0"/>
      </geometry>
      <material name="environment_color"/>
    </visual>
    <collision>
      <origin rpy="0 0 0" xyz="0 0 0"/>
      <geometry>
        <mesh filename="package://robocane_manual/robocane_env/robocane_new/meshes/obj/Cube_221.dae" scale="1.0 1.0 1.0"/>
      </geometry>
    </collision>
  </link>
  <joint name="Chair_2_legs_joint" type="fixed">
    <origin xyz="-0.06 0.0 -0.29463" rpy="0 0.0 0.0"/>
    <parent link="Chair_2_main_link"/>
    <child link="Chair_2_legs_link"/>
  </joint>
  <link name="Chair_2_legs_link">
    <inertial>
      <origin xyz="0.0 0.0 0.0" rpy="0.0 0.0 0.0"/>
      <mass value="0.0"/>
      <inertia ixx="0.0" ixy="0.0" ixz="0.0" iyy="0.0" iyz="0.0" izz="0.0"/>
    </inertial>
    <visual name="Chair_2">
      <origin xyz="0.0 0.0 0.0" rpy="0.0 0.0 0.0"/>
      <geometry>
      	<mesh filename="package://robocane_manual/robocane_env/robocane_new/meshes/obj/Cube_223.dae" scale="1.0 1.0 1.0"/>
      </geometry>
      <material name="environment_color"/>
    </visual>
    <collision>
      <origin rpy="0 0 0" xyz="0 0 0"/>
      <geometry>
        <mesh filename="package://robocane_manual/robocane_env/robocane_new/meshes/obj/Cube_223.dae" scale="1.0 1.0 1.0"/>
      </geometry>
    </collision>
  </link>
  


  <joint name="Chair_3_main_joint" type="fixed">
    <origin xyz="7.3227 6.6488 0.39878" rpy="-8.526514862000276e-14 0.0 -2.2204464727667867e-15"/>
    <parent link="Environment"/>
    <child link="Chair_3_main_link"/>
  </joint>
  <link name="Chair_3_main_link">
    <inertial>
      <origin xyz="0.0 0.0 0.0" rpy="0.0 0.0 0.0"/>
      <mass value="0.0"/>
      <inertia ixx="0.0" ixy="0.0" ixz="0.0" iyy="0.0" iyz="0.0" izz="0.0"/>
    </inertial>
  </link>
  <joint name="Chair_3_seat_joint" type="fixed">
    <origin xyz="0.0 0.0 0.0" rpy="0 0.0 0.0"/>
    <parent link="Chair_3_main_link"/>
    <child link="Chair_3_seat_link"/>
  </joint>
  <link name="Chair_3_seat_link">
    <inertial>
      <origin xyz="0.0 0.0 0.0" rpy="0.0 0.0 0.0"/>
      <mass value="0.0"/>
      <inertia ixx="0.0" ixy="0.0" ixz="0.0" iyy="0.0" iyz="0.0" izz="0.0"/>
    </inertial>
    <visual name="Chair_3">
      <origin xyz="0.0 0.0 0.0" rpy="0.0 0.0 0.0"/>
      <geometry>
      	<mesh filename="package://robocane_manual/robocane_env/robocane_new/meshes/obj/Cube_229.dae" scale="1.0 1.0 1.0"/>
      </geometry>
      <material name="environment_color"/>
    </visual>
    <collision>
      <origin rpy="0 0 0" xyz="0 0 0"/>
      <geometry>
        <mesh filename="package://robocane_manual/robocane_env/robocane_new/meshes/obj/Cube_229.dae" scale="1.0 1.0 1.0"/>
      </geometry>
    </collision>
  </link>
  <joint name="Chair_3_legs_joint" type="fixed">
    <origin xyz="0.0 -0.06 -0.29463" rpy="0 0.0 0.0"/>
    <parent link="Chair_3_main_link"/>
    <child link="Chair_3_legs_link"/>
  </joint>
  <link name="Chair_3_legs_link">
    <inertial>
      <origin xyz="0.0 0.0 0.0" rpy="0.0 0.0 0.0"/>
      <mass value="0.0"/>
      <inertia ixx="0.0" ixy="0.0" ixz="0.0" iyy="0.0" iyz="0.0" izz="0.0"/>
    </inertial>
    <visual name="Chair_3">
      <origin xyz="0.0 0.0 0.0" rpy="0.0 0.0 0.0"/>
      <geometry>
      	<mesh filename="package://robocane_manual/robocane_env/robocane_new/meshes/obj/Cube_231.dae" scale="1.0 1.0 1.0"/>
      </geometry>
      <material name="environment_color"/>
    </visual>
    <collision>
      <origin rpy="0 0 0" xyz="0 0 0"/>
      <geometry>
        <mesh filename="package://robocane_manual/robocane_env/robocane_new/meshes/obj/Cube_231.dae" scale="1.0 1.0 1.0"/>
      </geometry>
    </collision>
  </link>


  <joint name="Chair_4_main_joint" type="fixed">
    <origin xyz="6.704 6.649 0.39878" rpy="-8.526514862000276e-14 0.0 -2.2204464727667867e-15"/>
    <parent link="Environment"/>
    <child link="Chair_4_main_link"/>
  </joint>
  <link name="Chair_4_main_link">
    <inertial>
      <origin xyz="0.0 0.0 0.0" rpy="0.0 0.0 0.0"/>
      <mass value="0.0"/>
      <inertia ixx="0.0" ixy="0.0" ixz="0.0" iyy="0.0" iyz="0.0" izz="0.0"/>
    </inertial>
  </link>
  <joint name="Chair_4_seat_joint" type="fixed">
    <origin xyz="0.0 0.0 0.0" rpy="0 0.0 0.0"/>
    <parent link="Chair_4_main_link"/>
    <child link="Chair_4_seat_link"/>
  </joint>
  <link name="Chair_4_seat_link">
    <inertial>
      <origin xyz="0.0 0.0 0.0" rpy="0.0 0.0 0.0"/>
      <mass value="0.0"/>
      <inertia ixx="0.0" ixy="0.0" ixz="0.0" iyy="0.0" iyz="0.0" izz="0.0"/>
    </inertial>
    <visual name="Chair_4">
      <origin xyz="0.0 0.0 0.0" rpy="0.0 0.0 0.0"/>
      <geometry>
      	<mesh filename="package://robocane_manual/robocane_env/robocane_new/meshes/obj/Cube_225.dae" scale="1.0 1.0 1.0"/>
      </geometry>
      <material name="environment_color"/>
    </visual>
    <collision>
      <origin rpy="0 0 0" xyz="0 0 0"/>
      <geometry>
        <mesh filename="package://robocane_manual/robocane_env/robocane_new/meshes/obj/Cube_225.dae" scale="1.0 1.0 1.0"/>
      </geometry>
    </collision>
  </link>
  <joint name="Chair_4_legs_joint" type="fixed">
    <origin xyz="0.0 -0.06 -0.29463" rpy="0 0.0 0.0"/>
    <parent link="Chair_4_main_link"/>
    <child link="Chair_4_legs_link"/>
  </joint>
  <link name="Chair_4_legs_link">
    <inertial>
      <origin xyz="0.0 0.0 0.0" rpy="0.0 0.0 0.0"/>
      <mass value="0.0"/>
      <inertia ixx="0.0" ixy="0.0" ixz="0.0" iyy="0.0" iyz="0.0" izz="0.0"/>
    </inertial>
    <visual name="Chair_4">
      <origin xyz="0.0 0.0 0.0" rpy="0.0 0.0 0.0"/>
      <geometry>
      	<mesh filename="package://robocane_manual/robocane_env/robocane_new/meshes/obj/Cube_227.dae" scale="1.0 1.0 1.0"/>
      </geometry>
      <material name="environment_color"/>
    </visual>
    <collision>
      <origin rpy="0 0 0" xyz="0 0 0"/>
      <geometry>
        <mesh filename="package://robocane_manual/robocane_env/robocane_new/meshes/obj/Cube_227.dae" scale="1.0 1.0 1.0"/>
      </geometry>
    </collision>
  </link>


  <joint name="Chair_5_main_joint" type="fixed">
    <origin xyz="6.0834 6.6488 0.39878" rpy="-8.526514862000276e-14 0.0 -2.2204464727667867e-15"/>
    <parent link="Environment"/>
    <child link="Chair_5_main_link"/>
  </joint>
  <link name="Chair_5_main_link">
    <inertial>
      <origin xyz="0.0 0.0 0.0" rpy="0.0 0.0 0.0"/>
      <mass value="0.0"/>
      <inertia ixx="0.0" ixy="0.0" ixz="0.0" iyy="0.0" iyz="0.0" izz="0.0"/>
    </inertial>
  </link>
  <joint name="Chair_5_seat_joint" type="fixed">
    <origin xyz="0.0 0.0 0.0" rpy="0 0.0 0.0"/>
    <parent link="Chair_5_main_link"/>
    <child link="Chair_5_seat_link"/>
  </joint>
  <link name="Chair_5_seat_link">
    <inertial>
      <origin xyz="0.0 0.0 0.0" rpy="0.0 0.0 0.0"/>
      <mass value="0.0"/>
      <inertia ixx="0.0" ixy="0.0" ixz="0.0" iyy="0.0" iyz="0.0" izz="0.0"/>
    </inertial>
    <visual name="Chair_5">
      <origin xyz="0.0 0.0 0.0" rpy="0.0 0.0 0.0"/>
      <geometry>
      	<mesh filename="package://robocane_manual/robocane_env/robocane_new/meshes/obj/Cube_233.dae" scale="1.0 1.0 1.0"/>
      </geometry>
      <material name="environment_color"/>
    </visual>
    <collision>
      <origin rpy="0 0 0" xyz="0 0 0"/>
      <geometry>
        <mesh filename="package://robocane_manual/robocane_env/robocane_new/meshes/obj/Cube_233.dae" scale="1.0 1.0 1.0"/>
      </geometry>
    </collision>
  </link>
  <joint name="Chair_5_legs_joint" type="fixed">
    <origin xyz="0.0 -0.06 -0.29463" rpy="0 0.0 0.0"/>
    <parent link="Chair_5_main_link"/>
    <child link="Chair_5_legs_link"/>
  </joint>
  <link name="Chair_5_legs_link">
    <inertial>
      <origin xyz="0.0 0.0 0.0" rpy="0.0 0.0 0.0"/>
      <mass value="0.0"/>
      <inertia ixx="0.0" ixy="0.0" ixz="0.0" iyy="0.0" iyz="0.0" izz="0.0"/>
    </inertial>
    <visual name="Chair_5">
      <origin xyz="0.0 0.0 0.0" rpy="0.0 0.0 0.0"/>
      <geometry>
      	<mesh filename="package://robocane_manual/robocane_env/robocane_new/meshes/obj/Cube_235.dae" scale="1.0 1.0 1.0"/>
      </geometry>
      <material name="environment_color"/>
    </visual>
    <collision>
      <origin rpy="0 0 0" xyz="0 0 0"/>
      <geometry>
        <mesh filename="package://robocane_manual/robocane_env/robocane_new/meshes/obj/Cube_235.dae" scale="1.0 1.0 1.0"/>
      </geometry>
    </collision>
  </link>
 
 
 

  <joint name="Desk_0_main_joint" type="fixed">
    <origin xyz="4.7309 2.774 0.33" rpy="-8.526514862000276e-14 0.0 -2.2204464727667867e-15"/>
    <parent link="Environment"/>
    <child link="Desk_0_main_link"/>
  </joint>
  <link name="Desk_0_main_link">
    <inertial>
      <origin xyz="0.0 0.0 0.0" rpy="0.0 0.0 0.0"/>
      <mass value="0.0"/>
      <inertia ixx="0.0" ixy="0.0" ixz="0.0" iyy="0.0" iyz="0.0" izz="0.0"/>
    </inertial>
  </link>
  <joint name="Desk_0_stand_joint" type="fixed">
    <origin xyz="0 0 0" rpy="-8.526514862000276e-14 0.0 -2.2204464727667867e-15"/>
    <parent link="Desk_0_main_link"/>
    <child link="Desk_0_stand_link"/>
  </joint>
  <link name="Desk_0_stand_link">
    <inertial>
      <origin xyz="0.0 0.0 0.0" rpy="0.0 0.0 0.0"/>
      <mass value="0.0"/>
      <inertia ixx="0.0" ixy="0.0" ixz="0.0" iyy="0.0" iyz="0.0" izz="0.0"/>
    </inertial>
    <visual name="Desk_0_stand">
      <origin xyz="0.0 0.0 0.0" rpy="0.0 0.0 0.0"/>
      <geometry>
      	<mesh filename="package://robocane_manual/robocane_env/robocane_new/meshes/obj/Cube_074.dae" scale="1.0 1.0 1.0"/>
      </geometry>
      <material name="environment_color"/>
    </visual>
    <collision>
      <origin rpy="0 0 0" xyz="0 0 0"/>
      <geometry>
        <mesh filename="package://robocane_manual/robocane_env/robocane_new/meshes/obj/Cube_074.dae" scale="1.0 1.0 1.0"/>
      </geometry>
    </collision>
  </link>
  <joint name="Desk_0_top_joint" type="fixed">
    <origin xyz="0.1 0 0.32662" rpy="-8.526514862000276e-14 0.0 -2.2204464727667867e-15"/>
    <parent link="Desk_0_stand_link"/>
    <child link="Desk_0_top_link"/>
  </joint>
  <link name="Desk_0_top_link">
    <inertial>
      <origin xyz="0.0 0.0 0.0" rpy="0.0 0.0 0.0"/>
      <mass value="0.0"/>
      <inertia ixx="0.0" ixy="0.0" ixz="0.0" iyy="0.0" iyz="0.0" izz="0.0"/>
    </inertial>
    <visual name="Desk_0_top">
      <origin xyz="0.0 0.0 0.0" rpy="0.0 0.0 0.0"/>
      <geometry>
      	<mesh filename="package://robocane_manual/robocane_env/robocane_new/meshes/obj/Cube_013.dae" scale="1.0 1.0 1.0"/>
      </geometry>
      <material name="environment_color"/>
    </visual>
    <collision>
      <origin rpy="0 0 0" xyz="0 0 0"/>
      <geometry>
        <mesh filename="package://robocane_manual/robocane_env/robocane_new/meshes/obj/Cube_013.dae" scale="1.0 1.0 1.0"/>
      </geometry>
    </collision>
  </link>
  <joint name="Desk_0_front_joint" type="fixed">
    <origin xyz="-0.2 0 0.19" rpy="-8.526514862000276e-14 0.0 -2.2204464727667867e-15"/>
    <parent link="Desk_0_stand_link"/>
    <child link="Desk_0_front_link"/>
  </joint>
  <link name="Desk_0_front_link">
    <inertial>
      <origin xyz="0.0 0.0 0.0" rpy="0.0 0.0 0.0"/>
      <mass value="0.0"/>
      <inertia ixx="0.0" ixy="0.0" ixz="0.0" iyy="0.0" iyz="0.0" izz="0.0"/>
    </inertial>
    <visual name="Desk_0_front">
      <origin xyz="0.0 0.0 0.0" rpy="0.0 0.0 0.0"/>
      <geometry>
      	<mesh filename="package://robocane_manual/robocane_env/robocane_new/meshes/obj/Cube_121.dae" scale="1.0 1.0 1.0"/>
      </geometry>
      <material name="environment_color"/>
    </visual>
    <collision>
      <origin rpy="0 0 0" xyz="0 0 0"/>
      <geometry>
        <mesh filename="package://robocane_manual/robocane_env/robocane_new/meshes/obj/Cube_121.dae" scale="1.0 1.0 1.0"/>
      </geometry>
    </collision>
  </link>
    <joint name="Desk_0_rolls_joint" type="fixed">
    <origin xyz="0.00121 0.000427 -0.34455" rpy="-8.526514862000276e-14 0.0 -2.2204464727667867e-15"/>
    <parent link="Desk_0_stand_link"/>
    <child link="Desk_0_rolls_link"/>
  </joint>
  <link name="Desk_0_rolls_link">
    <inertial>
      <origin xyz="0.0 0.0 0.0" rpy="0.0 0.0 0.0"/>
      <mass value="0.0"/>
      <inertia ixx="0.0" ixy="0.0" ixz="0.0" iyy="0.0" iyz="0.0" izz="0.0"/>
    </inertial>
    <visual name="Desk_0_rolls">
      <origin xyz="0.0 0.0 0.0" rpy="0.0 0.0 0.0"/>
      <geometry>
      	<mesh filename="package://robocane_manual/robocane_env/robocane_new/meshes/obj/Cube_117.dae" scale="1.0 1.0 1.0"/>
      </geometry>
      <material name="environment_color"/>
    </visual>
    <collision>
      <origin rpy="0 0 0" xyz="0 0 0"/>
      <geometry>
        <mesh filename="package://robocane_manual/robocane_env/robocane_new/meshes/obj/Cube_117.dae" scale="1.0 1.0 1.0"/>
      </geometry>
    </collision>
  </link>
  
  
<joint name="Desk_1_main_joint" type="fixed">
    <origin xyz="7.6405 1.668 0.33" rpy="0.0 0.0 0.0"/>
    <parent link="Environment"/>
    <child link="Desk_1_main_link"/>
  </joint>
  <link name="Desk_1_main_link">
    <inertial>
      <origin xyz="0.0 0.0 0.0" rpy="0.0 0.0 0.0"/>
      <mass value="0.0"/>
      <inertia ixx="0.0" ixy="0.0" ixz="0.0" iyy="0.0" iyz="0.0" izz="0.0"/>
    </inertial>
  </link>
  <joint name="Desk_1_stand_joint" type="fixed">
    <origin xyz="0 0 0" rpy="-8.526514862000276e-14 0.0 -2.2204464727667867e-15"/>
    <parent link="Desk_1_main_link"/>
    <child link="Desk_1_stand_link"/>
  </joint>
  <link name="Desk_1_stand_link">
    <inertial>
      <origin xyz="0.0 0.0 0.0" rpy="0.0 0.0 0.0"/>
      <mass value="0.0"/>
      <inertia ixx="0.0" ixy="0.0" ixz="0.0" iyy="0.0" iyz="0.0" izz="0.0"/>
    </inertial>
    <visual name="Desk_1_stand">
      <origin xyz="0.0 0.0 0.0" rpy="0.0 0.0 0.0"/>
      <geometry>
      	<mesh filename="package://robocane_manual/robocane_env/robocane_new/meshes/obj/Cube_303.dae" scale="1.0 1.0 1.0"/>
      </geometry>
      <material name="environment_color"/>
    </visual>
    <collision>
      <origin rpy="0 0 0" xyz="0 0 0"/>
      <geometry>
        <mesh filename="package://robocane_manual/robocane_env/robocane_new/meshes/obj/Cube_303.dae" scale="1.0 1.0 1.0"/>
      </geometry>
    </collision>
  </link>
  <joint name="Desk_1_top_joint" type="fixed">
    <origin xyz="-0.000983 0.097651 0.32662" rpy="-8.526514862000276e-14 0.0 -2.2204464727667867e-15"/>
    <parent link="Desk_1_stand_link"/>
    <child link="Desk_1_top_link"/>
  </joint>
  <link name="Desk_1_top_link">
    <inertial>
      <origin xyz="0.0 0.0 0.0" rpy="0.0 0.0 0.0"/>
      <mass value="0.0"/>
      <inertia ixx="0.0" ixy="0.0" ixz="0.0" iyy="0.0" iyz="0.0" izz="0.0"/>
    </inertial>
    <visual name="Desk_1_top">
      <origin xyz="0.0 0.0 0.0" rpy="0.0 0.0 0.0"/>
      <geometry>
      	<mesh filename="package://robocane_manual/robocane_env/robocane_new/meshes/obj/Cube_302.dae" scale="1.0 1.0 1.0"/>
      </geometry>
      <material name="environment_color"/>
    </visual>
    <collision>
      <origin rpy="0 0 0" xyz="0 0 0"/>
      <geometry>
        <mesh filename="package://robocane_manual/robocane_env/robocane_new/meshes/obj/Cube_302.dae" scale="1.0 1.0 1.0"/>
      </geometry>
    </collision>
  </link>
  <joint name="Desk_1_front_joint" type="fixed">
    <origin xyz="0.000997 -0.20418 0.19" rpy="-8.526514862000276e-14 0.0 -2.2204464727667867e-15"/>
    <parent link="Desk_1_stand_link"/>
    <child link="Desk_1_front_link"/>
  </joint>
  <link name="Desk_1_front_link">
    <inertial>
      <origin xyz="0.0 0.0 0.0" rpy="0.0 0.0 0.0"/>
      <mass value="0.0"/>
      <inertia ixx="0.0" ixy="0.0" ixz="0.0" iyy="0.0" iyz="0.0" izz="0.0"/>
    </inertial>
    <visual name="Desk_1_front">
      <origin xyz="0.0 0.0 0.0" rpy="0.0 0.0 0.0"/>
      <geometry>
      	<mesh filename="package://robocane_manual/robocane_env/robocane_new/meshes/obj/Cube_305.dae" scale="1.0 1.0 1.0"/>
      </geometry>
      <material name="environment_color"/>
    </visual>
    <collision>
      <origin rpy="0 0 0" xyz="0 0 0"/>
      <geometry>
        <mesh filename="package://robocane_manual/robocane_env/robocane_new/meshes/obj/Cube_305.dae" scale="1.0 1.0 1.0"/>
      </geometry>
    </collision>
  </link>
    <joint name="Desk_1_rolls_joint" type="fixed">
    <origin xyz="0.00121 0.000427 -0.34455" rpy="-8.526514862000276e-14 0.0 -2.2204464727667867e-15"/>
    <parent link="Desk_1_stand_link"/>
    <child link="Desk_1_rolls_link"/>
  </joint>
  <link name="Desk_1_rolls_link">
    <inertial>
      <origin xyz="0.0 0.0 0.0" rpy="0.0 0.0 0.0"/>
      <mass value="0.0"/>
      <inertia ixx="0.0" ixy="0.0" ixz="0.0" iyy="0.0" iyz="0.0" izz="0.0"/>
    </inertial>
    <visual name="Desk_1_rolls">
      <origin xyz="0.0 0.0 0.0" rpy="0.0 0.0 0.0"/>
      <geometry>
      	<mesh filename="package://robocane_manual/robocane_env/robocane_new/meshes/obj/Cube_304.dae" scale="1.0 1.0 1.0"/>
      </geometry>
      <material name="environment_color"/>
    </visual>
    <collision>
      <origin rpy="0 0 0" xyz="0 0 0"/>
      <geometry>
        <mesh filename="package://robocane_manual/robocane_env/robocane_new/meshes/obj/Cube_304.dae" scale="1.0 1.0 1.0"/>
      </geometry>
    </collision>
  </link>

<joint name="Desk_2_main_joint" type="fixed">
    <origin xyz="6.084 1.668 0.33" rpy="0.0 0.0 0.0"/>
    <parent link="Environment"/>
    <child link="Desk_2_main_link"/>
  </joint>
  <link name="Desk_2_main_link">
    <inertial>
      <origin xyz="0.0 0.0 0.0" rpy="0.0 0.0 0.0"/>
      <mass value="0.0"/>
      <inertia ixx="0.0" ixy="0.0" ixz="0.0" iyy="0.0" iyz="0.0" izz="0.0"/>
    </inertial>
  </link>
  <joint name="Desk_2_stand_joint" type="fixed">
    <origin xyz="0 0 0" rpy="-8.526514862000276e-14 0.0 -2.2204464727667867e-15"/>
    <parent link="Desk_2_main_link"/>
    <child link="Desk_2_stand_link"/>
  </joint>
  <link name="Desk_2_stand_link">
    <inertial>
      <origin xyz="0.0 0.0 0.0" rpy="0.0 0.0 0.0"/>
      <mass value="0.0"/>
      <inertia ixx="0.0" ixy="0.0" ixz="0.0" iyy="0.0" iyz="0.0" izz="0.0"/>
    </inertial>
    <visual name="Desk_2_stand">
      <origin xyz="0.0 0.0 0.0" rpy="0.0 0.0 0.0"/>
      <geometry>
      	<mesh filename="package://robocane_manual/robocane_env/robocane_new/meshes/obj/Cube_299.dae" scale="1.0 1.0 1.0"/>
      </geometry>
      <material name="environment_color"/>
    </visual>
    <collision>
      <origin rpy="0 0 0" xyz="0 0 0"/>
      <geometry>
        <mesh filename="package://robocane_manual/robocane_env/robocane_new/meshes/obj/Cube_299.dae" scale="1.0 1.0 1.0"/>
      </geometry>
    </collision>
  </link>
  <joint name="Desk_2_top_joint" type="fixed">
    <origin xyz="-0.000983 0.097651 0.32662" rpy="-8.526514862000276e-14 0.0 -2.2204464727667867e-15"/>
    <parent link="Desk_2_stand_link"/>
    <child link="Desk_2_top_link"/>
  </joint>
  <link name="Desk_2_top_link">
    <inertial>
      <origin xyz="0.0 0.0 0.0" rpy="0.0 0.0 0.0"/>
      <mass value="0.0"/>
      <inertia ixx="0.0" ixy="0.0" ixz="0.0" iyy="0.0" iyz="0.0" izz="0.0"/>
    </inertial>
    <visual name="Desk_2_top">
      <origin xyz="0.0 0.0 0.0" rpy="0.0 0.0 0.0"/>
      <geometry>
      	<mesh filename="package://robocane_manual/robocane_env/robocane_new/meshes/obj/Cube_298.dae" scale="1.0 1.0 1.0"/>
      </geometry>
      <material name="environment_color"/>
    </visual>
    <collision>
      <origin rpy="0 0 0" xyz="0 0 0"/>
      <geometry>
        <mesh filename="package://robocane_manual/robocane_env/robocane_new/meshes/obj/Cube_298.dae" scale="1.0 1.0 1.0"/>
      </geometry>
    </collision>
  </link>
  <joint name="Desk_2_front_joint" type="fixed">
    <origin xyz="0.000997 -0.20418 0.19" rpy="-8.526514862000276e-14 0.0 -2.2204464727667867e-15"/>
    <parent link="Desk_2_stand_link"/>
    <child link="Desk_2_front_link"/>
  </joint>
  <link name="Desk_2_front_link">
    <inertial>
      <origin xyz="0.0 0.0 0.0" rpy="0.0 0.0 0.0"/>
      <mass value="0.0"/>
      <inertia ixx="0.0" ixy="0.0" ixz="0.0" iyy="0.0" iyz="0.0" izz="0.0"/>
    </inertial>
    <visual name="Desk_2_front">
      <origin xyz="0.0 0.0 0.0" rpy="0.0 0.0 0.0"/>
      <geometry>
      	<mesh filename="package://robocane_manual/robocane_env/robocane_new/meshes/obj/Cube_301.dae" scale="1.0 1.0 1.0"/>
      </geometry>
      <material name="environment_color"/>
    </visual>
    <collision>
      <origin rpy="0 0 0" xyz="0 0 0"/>
      <geometry>
        <mesh filename="package://robocane_manual/robocane_env/robocane_new/meshes/obj/Cube_301.dae" scale="1.0 1.0 1.0"/>
      </geometry>
    </collision>
  </link>
    <joint name="Desk_2_rolls_joint" type="fixed">
    <origin xyz="0.00121 0.000427 -0.34455" rpy="-8.526514862000276e-14 0.0 -2.2204464727667867e-15"/>
    <parent link="Desk_2_stand_link"/>
    <child link="Desk_2_rolls_link"/>
  </joint>
  <link name="Desk_2_rolls_link">
    <inertial>
      <origin xyz="0.0 0.0 0.0" rpy="0.0 0.0 0.0"/>
      <mass value="0.0"/>
      <inertia ixx="0.0" ixy="0.0" ixz="0.0" iyy="0.0" iyz="0.0" izz="0.0"/>
    </inertial>
    <visual name="Desk_2_rolls">
      <origin xyz="0.0 0.0 0.0" rpy="0.0 0.0 0.0"/>
      <geometry>
      	<mesh filename="package://robocane_manual/robocane_env/robocane_new/meshes/obj/Cube_304.dae" scale="1.0 1.0 1.0"/>
      </geometry>
      <material name="environment_color"/>
    </visual>
    <collision>
      <origin rpy="0 0 0" xyz="0 0 0"/>
      <geometry>
        <mesh filename="package://robocane_manual/robocane_env/robocane_new/meshes/obj/Cube_304.dae" scale="1.0 1.0 1.0"/>
      </geometry>
    </collision>
  </link>


<joint name="Desk_3_main_joint" type="fixed">
    <origin xyz="7.806 1.243 0.33" rpy="0.0 0.0 0.0"/>
    <parent link="Environment"/>
    <child link="Desk_3_main_link"/>
  </joint>
  <link name="Desk_3_main_link">
    <inertial>
      <origin xyz="0.0 0.0 0.0" rpy="0.0 0.0 0.0"/>
      <mass value="0.0"/>
      <inertia ixx="0.0" ixy="0.0" ixz="0.0" iyy="0.0" iyz="0.0" izz="0.0"/>
    </inertial>
  </link>
  <joint name="Desk_3_stand_joint" type="fixed">
    <origin xyz="0 0 0" rpy="-8.526514862000276e-14 0.0 -2.2204464727667867e-15"/>
    <parent link="Desk_3_main_link"/>
    <child link="Desk_3_stand_link"/>
  </joint>
  <link name="Desk_3_stand_link">
    <inertial>
      <origin xyz="0.0 0.0 0.0" rpy="0.0 0.0 0.0"/>
      <mass value="0.0"/>
      <inertia ixx="0.0" ixy="0.0" ixz="0.0" iyy="0.0" iyz="0.0" izz="0.0"/>
    </inertial>
    <visual name="Desk_3_stand">
      <origin xyz="0.0 0.0 0.0" rpy="0.0 0.0 0.0"/>
      <geometry>
      	<mesh filename="package://robocane_manual/robocane_env/robocane_new/meshes/obj/Cube_299.dae" scale="1.0 1.0 1.0"/>
      </geometry>
      <material name="environment_color"/>
    </visual>
    <collision>
      <origin rpy="0 0 0" xyz="0 0 0"/>
      <geometry>
        <mesh filename="package://robocane_manual/robocane_env/robocane_new/meshes/obj/Cube_299.dae" scale="1.0 1.0 1.0"/>
      </geometry>
    </collision>
  </link>
  <joint name="Desk_3_top_joint" type="fixed">
    <origin xyz="0.000983 -0.097651 0.32662" rpy="-8.526514862000276e-14 0.0 -2.2204464727667867e-15"/>
    <parent link="Desk_3_stand_link"/>
    <child link="Desk_3_top_link"/>
  </joint>
  <link name="Desk_3_top_link">
    <inertial>
      <origin xyz="0.0 0.0 0.0" rpy="0.0 0.0 0.0"/>
      <mass value="0.0"/>
      <inertia ixx="0.0" ixy="0.0" ixz="0.0" iyy="0.0" iyz="0.0" izz="0.0"/>
    </inertial>
    <visual name="Desk_3_top">
      <origin xyz="0.0 0.0 0.0" rpy="0.0 0.0 0.0"/>
      <geometry>
      	<mesh filename="package://robocane_manual/robocane_env/robocane_new/meshes/obj/Cube_298.dae" scale="1.0 1.0 1.0"/>
      </geometry>
      <material name="environment_color"/>
    </visual>
    <collision>
      <origin rpy="0 0 0" xyz="0 0 0"/>
      <geometry>
        <mesh filename="package://robocane_manual/robocane_env/robocane_new/meshes/obj/Cube_298.dae" scale="1.0 1.0 1.0"/>
      </geometry>
    </collision>
  </link>
  <joint name="Desk_3_front_joint" type="fixed">
    <origin xyz="0.0001015 0.20418 0.19" rpy="-8.526514862000276e-14 0.0 -2.2204464727667867e-15"/>
    <parent link="Desk_3_stand_link"/>
    <child link="Desk_3_front_link"/>
  </joint>
  <link name="Desk_3_front_link">
    <inertial>
      <origin xyz="0.0 0.0 0.0" rpy="0.0 0.0 0.0"/>
      <mass value="0.0"/>
      <inertia ixx="0.0" ixy="0.0" ixz="0.0" iyy="0.0" iyz="0.0" izz="0.0"/>
    </inertial>
    <visual name="Desk_3_front">
      <origin xyz="0.0 0.0 0.0" rpy="0.0 0.0 0.0"/>
      <geometry>
      	<mesh filename="package://robocane_manual/robocane_env/robocane_new/meshes/obj/Cube_301.dae" scale="1.0 1.0 1.0"/>
      </geometry>
      <material name="environment_color"/>
    </visual>
    <collision>
      <origin rpy="0 0 0" xyz="0 0 0"/>
      <geometry>
        <mesh filename="package://robocane_manual/robocane_env/robocane_new/meshes/obj/Cube_301.dae" scale="1.0 1.0 1.0"/>
      </geometry>
    </collision>
  </link>
    <joint name="Desk_3_rolls_joint" type="fixed">
    <origin xyz="0.000427 -0.00121 -0.34455" rpy="-8.526514862000276e-14 0.0 -2.2204464727667867e-15"/>
    <parent link="Desk_3_stand_link"/>
    <child link="Desk_3_rolls_link"/>
  </joint>
  <link name="Desk_3_rolls_link">
    <inertial>
      <origin xyz="0.0 0.0 0.0" rpy="0.0 0.0 0.0"/>
      <mass value="0.0"/>
      <inertia ixx="0.0" ixy="0.0" ixz="0.0" iyy="0.0" iyz="0.0" izz="0.0"/>
    </inertial>
    <visual name="Desk_3_rolls">
      <origin xyz="0.0 0.0 0.0" rpy="0.0 0.0 0.0"/>
      <geometry>
      	<mesh filename="package://robocane_manual/robocane_env/robocane_new/meshes/obj/Cube_308.dae" scale="1.0 1.0 1.0"/>
      </geometry>
      <material name="environment_color"/>
    </visual>
    <collision>
      <origin rpy="0 0 0" xyz="0 0 0"/>
      <geometry>
        <mesh filename="package://robocane_manual/robocane_env/robocane_new/meshes/obj/Cube_308.dae" scale="1.0 1.0 1.0"/>
      </geometry>
    </collision>
  </link>
  

<joint name="Desk_4_main_joint" type="fixed">
    <origin xyz="6.2501 1.2428 0.33" rpy="0.0 0.0 0.0"/>
    <parent link="Environment"/>
    <child link="Desk_4_main_link"/>
  </joint>
  <link name="Desk_4_main_link">
    <inertial>
      <origin xyz="0.0 0.0 0.0" rpy="0.0 0.0 0.0"/>
      <mass value="0.0"/>
      <inertia ixx="0.0" ixy="0.0" ixz="0.0" iyy="0.0" iyz="0.0" izz="0.0"/>
    </inertial>
  </link>
  <joint name="Desk_4_stand_joint" type="fixed">
    <origin xyz="0 0 0" rpy="-8.526514862000276e-14 0.0 -2.2204464727667867e-15"/>
    <parent link="Desk_4_main_link"/>
    <child link="Desk_4_stand_link"/>
  </joint>
  <link name="Desk_4_stand_link">
    <inertial>
      <origin xyz="0.0 0.0 0.0" rpy="0.0 0.0 0.0"/>
      <mass value="0.0"/>
      <inertia ixx="0.0" ixy="0.0" ixz="0.0" iyy="0.0" iyz="0.0" izz="0.0"/>
    </inertial>
    <visual name="Desk_4_stand">
      <origin xyz="0.0 0.0 0.0" rpy="0.0 0.0 0.0"/>
      <geometry>
      	<mesh filename="package://robocane_manual/robocane_env/robocane_new/meshes/obj/Cube_311.dae" scale="1.0 1.0 1.0"/>
      </geometry>
      <material name="environment_color"/>
    </visual>
    <collision>
      <origin rpy="0 0 0" xyz="0 0 0"/>
      <geometry>
        <mesh filename="package://robocane_manual/robocane_env/robocane_new/meshes/obj/Cube_311.dae" scale="1.0 1.0 1.0"/>
      </geometry>
    </collision>
  </link>
  <joint name="Desk_4_top_joint" type="fixed">
    <origin xyz="0.000983 -0.097651 0.32662" rpy="-8.526514862000276e-14 0.0 -2.2204464727667867e-15"/>
    <parent link="Desk_4_stand_link"/>
    <child link="Desk_4_top_link"/>
  </joint>
  <link name="Desk_4_top_link">
    <inertial>
      <origin xyz="0.0 0.0 0.0" rpy="0.0 0.0 0.0"/>
      <mass value="0.0"/>
      <inertia ixx="0.0" ixy="0.0" ixz="0.0" iyy="0.0" iyz="0.0" izz="0.0"/>
    </inertial>
    <visual name="Desk_4_top">
      <origin xyz="0.0 0.0 0.0" rpy="0.0 0.0 0.0"/>
      <geometry>
      	<mesh filename="package://robocane_manual/robocane_env/robocane_new/meshes/obj/Cube_310.dae" scale="1.0 1.0 1.0"/>
      </geometry>
      <material name="environment_color"/>
    </visual>
    <collision>
      <origin rpy="0 0 0" xyz="0 0 0"/>
      <geometry>
        <mesh filename="package://robocane_manual/robocane_env/robocane_new/meshes/obj/Cube_310.dae" scale="1.0 1.0 1.0"/>
      </geometry>
    </collision>
  </link>
  <joint name="Desk_4_front_joint" type="fixed">
    <origin xyz="0.00097 0.20415 0.19" rpy="-8.526514862000276e-14 0.0 -2.2204464727667867e-15"/>
    <parent link="Desk_4_stand_link"/>
    <child link="Desk_4_front_link"/>
  </joint>
  <link name="Desk_4_front_link">
    <inertial>
      <origin xyz="0.0 0.0 0.0" rpy="0.0 0.0 0.0"/>
      <mass value="0.0"/>
      <inertia ixx="0.0" ixy="0.0" ixz="0.0" iyy="0.0" iyz="0.0" izz="0.0"/>
    </inertial>
    <visual name="Desk_4_front">
      <origin xyz="0.0 0.0 0.0" rpy="0.0 0.0 0.0"/>
      <geometry>
      	<mesh filename="package://robocane_manual/robocane_env/robocane_new/meshes/obj/Cube_313.dae" scale="1.0 1.0 1.0"/>
      </geometry>
      <material name="environment_color"/>
    </visual>
    <collision>
      <origin rpy="0 0 0" xyz="0 0 0"/>
      <geometry>
        <mesh filename="package://robocane_manual/robocane_env/robocane_new/meshes/obj/Cube_313.dae" scale="1.0 1.0 1.0"/>
      </geometry>
    </collision>
  </link>
    <joint name="Desk_4_rolls_joint" type="fixed">
    <origin xyz="0.000427 -0.00121 -0.34455" rpy="-8.526514862000276e-14 0.0 -2.2204464727667867e-15"/>
    <parent link="Desk_4_stand_link"/>
    <child link="Desk_4_rolls_link"/>
  </joint>
  <link name="Desk_4_rolls_link">
    <inertial>
      <origin xyz="0.0 0.0 0.0" rpy="0.0 0.0 0.0"/>
      <mass value="0.0"/>
      <inertia ixx="0.0" ixy="0.0" ixz="0.0" iyy="0.0" iyz="0.0" izz="0.0"/>
    </inertial>
    <visual name="Desk_4_rolls">
      <origin xyz="0.0 0.0 0.0" rpy="0.0 0.0 0.0"/>
      <geometry>
      	<mesh filename="package://robocane_manual/robocane_env/robocane_new/meshes/obj/Cube_312.dae" scale="1.0 1.0 1.0"/>
      </geometry>
      <material name="environment_color"/>
    </visual>
    <collision>
      <origin rpy="0 0 0" xyz="0 0 0"/>
      <geometry>
        <mesh filename="package://robocane_manual/robocane_env/robocane_new/meshes/obj/Cube_312.dae" scale="1.0 1.0 1.0"/>
      </geometry>
    </collision>
  </link>
  
  <!-- WINDOWS -->
  <joint name="Window_0_main_joint" type="fixed">
    <origin xyz="2.2306 -0.61081 1.5097" rpy="0.0 0.0 0.0"/>
    <parent link="Environment"/>
    <child link="Window_0_main_link"/>
  </joint>
  <link name="Window_0_main_link">
    <inertial>
      <origin xyz="0.0 0.0 0.0" rpy="0.0 0.0 0.0"/>
      <mass value="0.0"/>
      <inertia ixx="0.0" ixy="0.0" ixz="0.0" iyy="0.0" iyz="0.0" izz="0.0"/>
    </inertial>
  </link>
  <joint name="Window_0_panel_joint" type="fixed">
    <origin xyz="0 0 0" rpy="-8.526514862000276e-14 0.0 -2.2204464727667867e-15"/>
    <parent link="Window_0_main_link"/>
    <child link="Window_0_panel_link"/>
  </joint>
  <link name="Window_0_panel_link">
    <inertial>
      <origin xyz="0.0 0.0 0.0" rpy="0.0 0.0 0.0"/>
      <mass value="0.0"/>
      <inertia ixx="0.0" ixy="0.0" ixz="0.0" iyy="0.0" iyz="0.0" izz="0.0"/>
    </inertial>
    <visual name="Window_0_panel">
      <origin xyz="0.0 0.0 0.0" rpy="0.0 0.0 0.0"/>
      <geometry>
      	<mesh filename="package://robocane_manual/robocane_env/robocane_new/meshes/obj/Office_034.dae" scale="1.0 1.0 1.0"/>
      </geometry>
      <material name="environment_color"/>
    </visual>
    <collision>
      <origin rpy="0 0 0" xyz="0 0 0"/>
      <geometry>
        <mesh filename="package://robocane_manual/robocane_env/robocane_new/meshes/obj/Office_034.dae" scale="1.0 1.0 1.0"/>
      </geometry>
    </collision>
  </link>
  <joint name="Window_0_border_joint" type="fixed">
    <origin xyz="0 0 0" rpy="-8.526514862000276e-14 0.0 -2.2204464727667867e-15"/>
    <parent link="Window_0_main_link"/>
    <child link="Window_0_border_link"/>
  </joint>
  <link name="Window_0_border_link">
    <inertial>
      <origin xyz="0.0 0.0 0.0" rpy="0.0 0.0 0.0"/>
      <mass value="0.0"/>
      <inertia ixx="0.0" ixy="0.0" ixz="0.0" iyy="0.0" iyz="0.0" izz="0.0"/>
    </inertial>
    <visual name="Window_0_border">
      <origin xyz="0.0 0.0 0.0" rpy="0.0 0.0 0.0"/>
      <geometry>
      	<mesh filename="package://robocane_manual/robocane_env/robocane_new/meshes/obj/Office_018.dae" scale="1.0 1.0 1.0"/>
      </geometry>
      <material name="environment_color"/>
    </visual>
    <collision>
      <origin rpy="0 0 0" xyz="0 0 0"/>
      <geometry>
        <mesh filename="package://robocane_manual/robocane_env/robocane_new/meshes/obj/Office_018.dae" scale="1.0 1.0 1.0"/>
      </geometry>
    </collision>
  </link>


  <joint name="Window_1_main_joint" type="fixed">
    <origin xyz="5.3664 -0.61081 1.5097" rpy="0.0 0.0 0.0"/>
    <parent link="Environment"/>
    <child link="Window_1_main_link"/>
  </joint>
  <link name="Window_1_main_link">
    <inertial>
      <origin xyz="0.0 0.0 0.0" rpy="0.0 0.0 0.0"/>
      <mass value="0.0"/>
      <inertia ixx="0.0" ixy="0.0" ixz="0.0" iyy="0.0" iyz="0.0" izz="0.0"/>
    </inertial>
  </link>
  <joint name="Window_1_panel_joint" type="fixed">
    <origin xyz="0 0 0" rpy="-8.526514862000276e-14 0.0 -2.2204464727667867e-15"/>
    <parent link="Window_1_main_link"/>
    <child link="Window_1_panel_link"/>
  </joint>
  <link name="Window_1_panel_link">
    <inertial>
      <origin xyz="0.0 0.0 0.0" rpy="0.0 0.0 0.0"/>
      <mass value="0.0"/>
      <inertia ixx="0.0" ixy="0.0" ixz="0.0" iyy="0.0" iyz="0.0" izz="0.0"/>
    </inertial>
    <visual name="Window_1_panel">
      <origin xyz="0.0 0.0 0.0" rpy="0.0 0.0 0.0"/>
      <geometry>
      	<mesh filename="package://robocane_manual/robocane_env/robocane_new/meshes/obj/Office_034.dae" scale="1.0 1.0 1.0"/>
      </geometry>
      <material name="environment_color"/>
    </visual>
    <collision>
      <origin rpy="0 0 0" xyz="0 0 0"/>
      <geometry>
        <mesh filename="package://robocane_manual/robocane_env/robocane_new/meshes/obj/Office_034.dae" scale="1.0 1.0 1.0"/>
      </geometry>
    </collision>
  </link>
  <joint name="Window_1_border_joint" type="fixed">
    <origin xyz="0 0 0" rpy="-8.526514862000276e-14 0.0 -2.2204464727667867e-15"/>
    <parent link="Window_1_main_link"/>
    <child link="Window_1_border_link"/>
  </joint>
  <link name="Window_1_border_link">
    <inertial>
      <origin xyz="0.0 0.0 0.0" rpy="0.0 0.0 0.0"/>
      <mass value="0.0"/>
      <inertia ixx="0.0" ixy="0.0" ixz="0.0" iyy="0.0" iyz="0.0" izz="0.0"/>
    </inertial>
    <visual name="Window_1_border">
      <origin xyz="0.0 0.0 0.0" rpy="0.0 0.0 0.0"/>
      <geometry>
      	<mesh filename="package://robocane_manual/robocane_env/robocane_new/meshes/obj/Office_030.dae" scale="1.0 1.0 1.0"/>
      </geometry>
      <material name="environment_color"/>
    </visual>
    <collision>
      <origin rpy="0 0 0" xyz="0 0 0"/>
      <geometry>
        <mesh filename="package://robocane_manual/robocane_env/robocane_new/meshes/obj/Office_030.dae" scale="1.0 1.0 1.0"/>
      </geometry>
    </collision>
  </link>
  

  <joint name="Window_2_main_joint" type="fixed">
    <origin xyz="8.5103 -0.61081 1.5097" rpy="0.0 0.0 0.0"/>
    <parent link="Environment"/>
    <child link="Window_2_main_link"/>
  </joint>
  <link name="Window_2_main_link">
    <inertial>
      <origin xyz="0.0 0.0 0.0" rpy="0.0 0.0 0.0"/>
      <mass value="0.0"/>
      <inertia ixx="0.0" ixy="0.0" ixz="0.0" iyy="0.0" iyz="0.0" izz="0.0"/>
    </inertial>
  </link>
  <joint name="Window_2_panel_joint" type="fixed">
    <origin xyz="0 0 0" rpy="-8.526514862000276e-14 0.0 -2.2204464727667867e-15"/>
    <parent link="Window_2_main_link"/>
    <child link="Window_2_panel_link"/>
  </joint>
  <link name="Window_2_panel_link">
    <inertial>
      <origin xyz="0.0 0.0 0.0" rpy="0.0 0.0 0.0"/>
      <mass value="0.0"/>
      <inertia ixx="0.0" ixy="0.0" ixz="0.0" iyy="0.0" iyz="0.0" izz="0.0"/>
    </inertial>
    <visual name="Window_2_panel">
      <origin xyz="0.0 0.0 0.0" rpy="0.0 0.0 0.0"/>
      <geometry>
      	<mesh filename="package://robocane_manual/robocane_env/robocane_new/meshes/obj/Office_033.dae" scale="1.0 1.0 1.0"/>
      </geometry>
      <material name="environment_color"/>
    </visual>
    <collision>
      <origin rpy="0 0 0" xyz="0 0 0"/>
      <geometry>
        <mesh filename="package://robocane_manual/robocane_env/robocane_new/meshes/obj/Office_033.dae" scale="1.0 1.0 1.0"/>
      </geometry>
    </collision>
  </link>
  <joint name="Window_2_border_joint" type="fixed">
    <origin xyz="0 0 0" rpy="-8.526514862000276e-14 0.0 -2.2204464727667867e-15"/>
    <parent link="Window_2_main_link"/>
    <child link="Window_2_border_link"/>
  </joint>
  <link name="Window_2_border_link">
    <inertial>
      <origin xyz="0.0 0.0 0.0" rpy="0.0 0.0 0.0"/>
      <mass value="0.0"/>
      <inertia ixx="0.0" ixy="0.0" ixz="0.0" iyy="0.0" iyz="0.0" izz="0.0"/>
    </inertial>
    <visual name="Window_2_border">
      <origin xyz="0.0 0.0 0.0" rpy="0.0 0.0 0.0"/>
      <geometry>
      	<mesh filename="package://robocane_manual/robocane_env/robocane_new/meshes/obj/Office_032.dae" scale="1.0 1.0 1.0"/>
      </geometry>
      <material name="environment_color"/>
    </visual>
    <collision>
      <origin rpy="0 0 0" xyz="0 0 0"/>
      <geometry>
        <mesh filename="package://robocane_manual/robocane_env/robocane_new/meshes/obj/Office_032.dae" scale="1.0 1.0 1.0"/>
      </geometry>
    </collision>
  </link>


  <!-- WALLS -->
  <joint name="Wall_0_joint" type="fixed">
    <origin xyz="5.5 -0.75 0.7" rpy="-8.526514862000276e-14 0.0 -2.2204464727667867e-15"/>
    <parent link="Environment"/>
    <child link="Wall_0_link"/>
  </joint>
  <link name="Wall_0_link">
    <inertial>
      <origin xyz="0.0 0.0 0.0" rpy="0.0 0.0 0.0"/>
      <mass value="0.0"/>
      <inertia ixx="0.0" ixy="0.0" ixz="0.0" iyy="0.0" iyz="0.0" izz="0.0"/>
    </inertial>
    <visual name="Wall_0">
      <origin xyz="0.0 0.0 0.0" rpy="0.0 0.0 0.0"/>
      <geometry>
      	<box size="11 0.2 1.4"/>
      </geometry>
      <material name="environment_color"/>
    </visual>
    <collision>
      <origin rpy="0 0 0" xyz="0 0 0"/>
      <geometry>
        <box size="11 0.2 1.4"/>
      </geometry>
    </collision>
  </link>
  <joint name="Wall_1_joint" type="fixed">
    <origin xyz="0 3.8 0.7" rpy="-8.526514862000276e-14 0.0 -2.2204464727667867e-15"/>
    <parent link="Environment"/>
    <child link="Wall_1_link"/>
  </joint>
  <link name="Wall_1_link">
    <inertial>
      <origin xyz="0.0 0.0 0.0" rpy="0.0 0.0 0.0"/>
      <mass value="0.0"/>
      <inertia ixx="0.0" ixy="0.0" ixz="0.0" iyy="0.0" iyz="0.0" izz="0.0"/>
    </inertial>
    <visual name="Wall_1">
      <origin xyz="0.0 0.0 0.0" rpy="0.0 0.0 0.0"/>
      <geometry>
      	<box size="0.2 6.66 1.4"/>
      </geometry>
      <material name="environment_color"/>
    </visual>
    <collision>
      <origin rpy="0 0 0" xyz="0 0 0"/>
      <geometry>
        <box size="0.2 6.66 1.4"/>
      </geometry>
    </collision>
  </link>
  <joint name="Wall_2_joint" type="fixed">
    <origin xyz="4.2 7.2 0.7" rpy="-8.526514862000276e-14 0.0 -2.2204464727667867e-15"/>
    <parent link="Environment"/>
    <child link="Wall_2_link"/>
  </joint>
  <link name="Wall_2_link">
    <inertial>
      <origin xyz="0.0 0.0 0.0" rpy="0.0 0.0 0.0"/>
      <mass value="0.0"/>
      <inertia ixx="0.0" ixy="0.0" ixz="0.0" iyy="0.0" iyz="0.0" izz="0.0"/>
    </inertial>
    <visual name="Wall_2">
      <origin xyz="0.0 0.0 0.0" rpy="0.0 0.0 0.0"/>
      <geometry>
      	<box size="8.4 0.2 1.4"/>
      </geometry>
      <material name="environment_color"/>
    </visual>
    <collision>
      <origin rpy="0 0 0" xyz="0 0 0"/>
      <geometry>
        <box size="8.4 0.2 1.4"/>
      </geometry>
    </collision>
  </link>
  <joint name="Wall_3_joint" type="fixed">
    <origin xyz="8.5 5.7 0.7" rpy="-8.526514862000276e-14 0.0 -2.2204464727667867e-15"/>
    <parent link="Environment"/>
    <child link="Wall_3_link"/>
  </joint>
  <link name="Wall_3_link">
    <inertial>
      <origin xyz="0.0 0.0 0.0" rpy="0.0 0.0 0.0"/>
      <mass value="0.0"/>
      <inertia ixx="0.0" ixy="0.0" ixz="0.0" iyy="0.0" iyz="0.0" izz="0.0"/>
    </inertial>
    <visual name="Wall_3">
      <origin xyz="0.0 0.0 0.0" rpy="0.0 0.0 0.0"/>
      <geometry>
      	<box size="0.2 3.3 1.4"/>
      </geometry>
      <material name="environment_color"/>
    </visual>
    <collision>
      <origin rpy="0 0 0" xyz="0 0 0"/>
      <geometry>
        <box size="0.2 3.3 1.4"/>
      </geometry>
    </collision>
  </link>
  <joint name="Wall_4_joint" type="fixed">
    <origin xyz="11 2.4 0.7" rpy="-8.526514862000276e-14 0.0 -2.2204464727667867e-15"/>
    <parent link="Environment"/>
    <child link="Wall_4_link"/>
  </joint>
  <link name="Wall_4_link">
    <inertial>
      <origin xyz="0.0 0.0 0.0" rpy="0.0 0.0 0.0"/>
      <mass value="0.0"/>
      <inertia ixx="0.0" ixy="0.0" ixz="0.0" iyy="0.0" iyz="0.0" izz="0.0"/>
    </inertial>
    <visual name="Wall_4">
      <origin xyz="0.0 0.0 0.0" rpy="0.0 0.0 0.0"/>
      <geometry>
      	<box size="0.2 3.7 1.4"/>
      </geometry>
      <material name="environment_color"/>
    </visual>
    <collision>
      <origin rpy="0 0 0" xyz="0 0 0"/>
      <geometry>
        <box size="0.2 3.7 1.4"/>
      </geometry>
    </collision>
  </link>
  <joint name="Wall_5_joint" type="fixed">
    <origin xyz="10.3 4.15 0.7" rpy="-8.526514862000276e-14 0.0 -2.2204464727667867e-15"/>
    <parent link="Environment"/>
    <child link="Wall_5_link"/>
  </joint>
  <link name="Wall_5_link">
    <inertial>
      <origin xyz="0.0 0.0 0.0" rpy="0.0 0.0 0.0"/>
      <mass value="0.0"/>
      <inertia ixx="0.0" ixy="0.0" ixz="0.0" iyy="0.0" iyz="0.0" izz="0.0"/>
    </inertial>
    <visual name="Wall_5">
      <origin xyz="0.0 0.0 0.0" rpy="0.0 0.0 0.0"/>
      <geometry>
      	<box size="1.3 0.2 1.4"/>
      </geometry>
      <material name="environment_color"/>
    </visual>
    <collision>
      <origin rpy="0 0 0" xyz="0 0 0"/>
      <geometry>
        <box size="1.3 0.2 1.4"/>
      </geometry>
    </collision>
  </link>


</robot>
